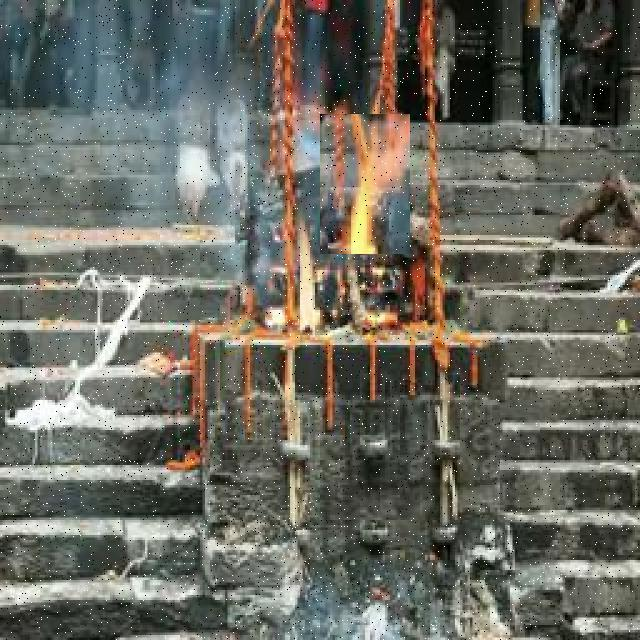fire: (320, 114, 410, 254)
